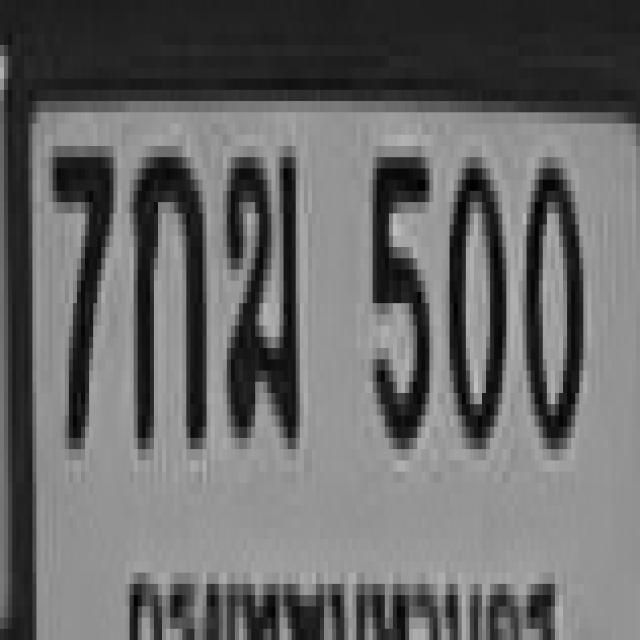0: (446, 146, 502, 438), (523, 146, 579, 438)
10GorGai: (130, 135, 202, 438)
15KhorRaKhang: (222, 140, 296, 432)
5: (369, 146, 425, 438)
7: (49, 135, 110, 438)
Bangkok: (108, 538, 572, 640)
